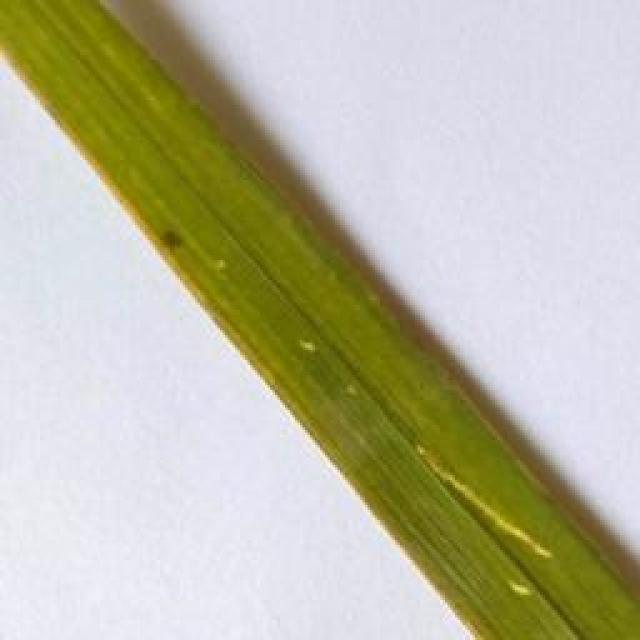Bacterial_Blight: (0, 39, 297, 407)
Brown_Spot: (148, 220, 190, 260)
Rice_Blast: (401, 446, 562, 580), (497, 570, 535, 605)
